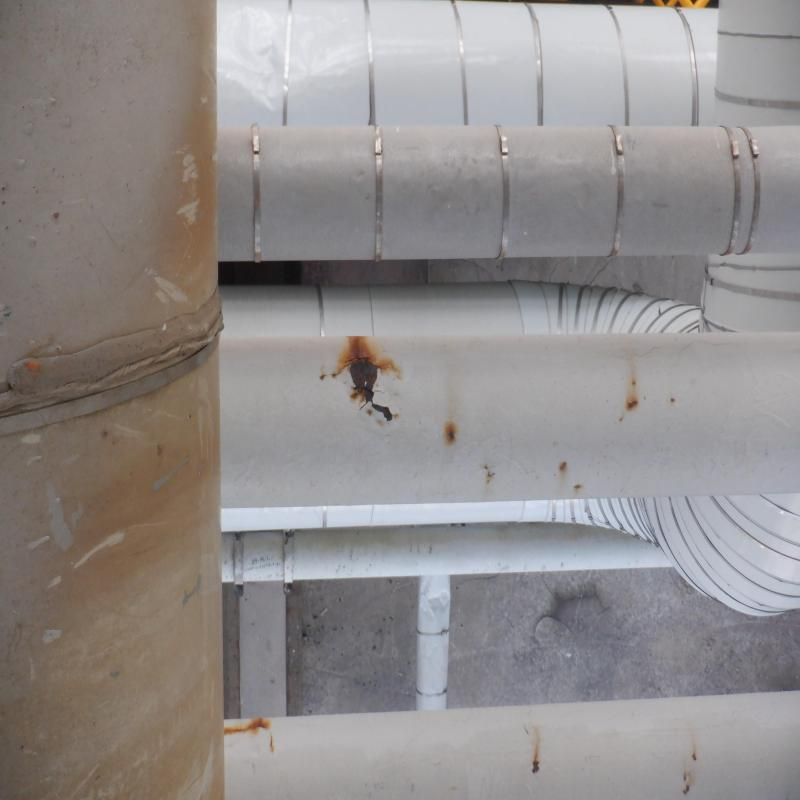corrosion: (345, 337, 389, 394), (436, 420, 462, 446), (626, 397, 642, 413), (558, 457, 569, 480)
